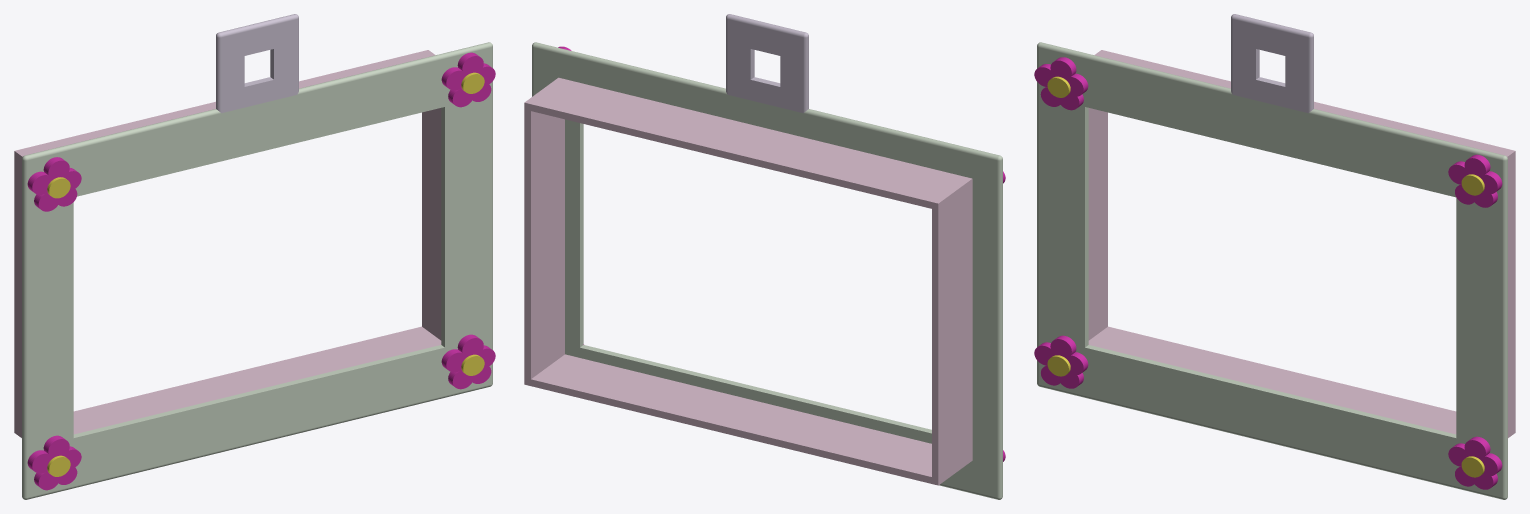
Rendered from Frame.glb.
3 renders of one model, left to right at view 1: azimuth 30°, elevation 25°; view 2: azimuth 150°, elevation 25°; view 3: azimuth 330°, elevation 25°, orthographic.
Parts seen in each view (by area): view 1: Mesh_Mesh_head_geo.001_lambert2SG.001; view 2: Mesh_Mesh_head_geo.001_lambert2SG.001; view 3: Mesh_Mesh_head_geo.001_lambert2SG.001.
Part boxes in pixels (x1,y1,x2,y2): Mesh_Mesh_head_geo.001_lambert2SG.001: (14,14,495,499); Mesh_Mesh_head_geo.001_lambert2SG.001: (524,14,1005,499); Mesh_Mesh_head_geo.001_lambert2SG.001: (1034,14,1515,499).
Bounding box in the file's own units: 0.143 × 0.122 × 0.0234.
